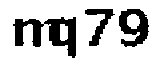7: (82, 6, 116, 51)
9: (116, 6, 151, 54)
m: (9, 16, 57, 51)
q: (51, 17, 83, 60)
